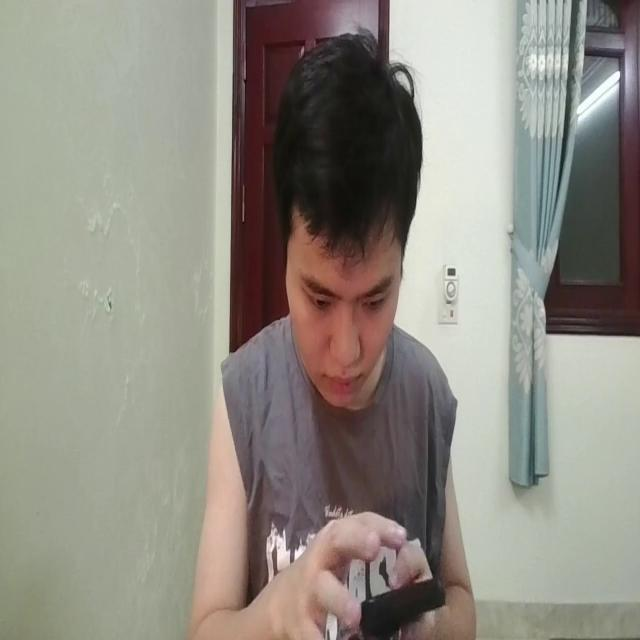phone: (350, 563, 446, 638)
student: (194, 19, 475, 640)
